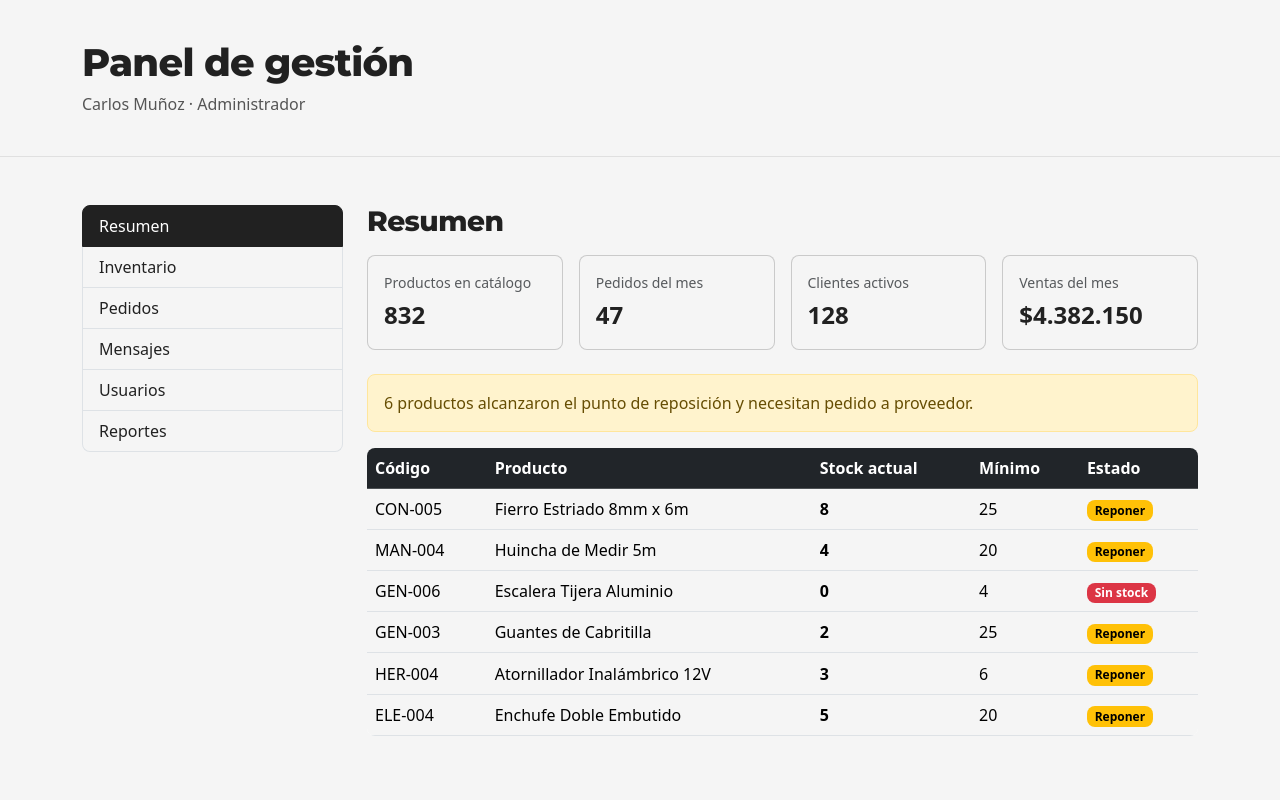
Test: Panel › al elegir una opcion del menu muestra solo esa seccion
Check: the heading "Resumen" is shown, box [367,204,503,238]
Click the button "Inventario".
click(138, 267)  # box [82,247,343,288]
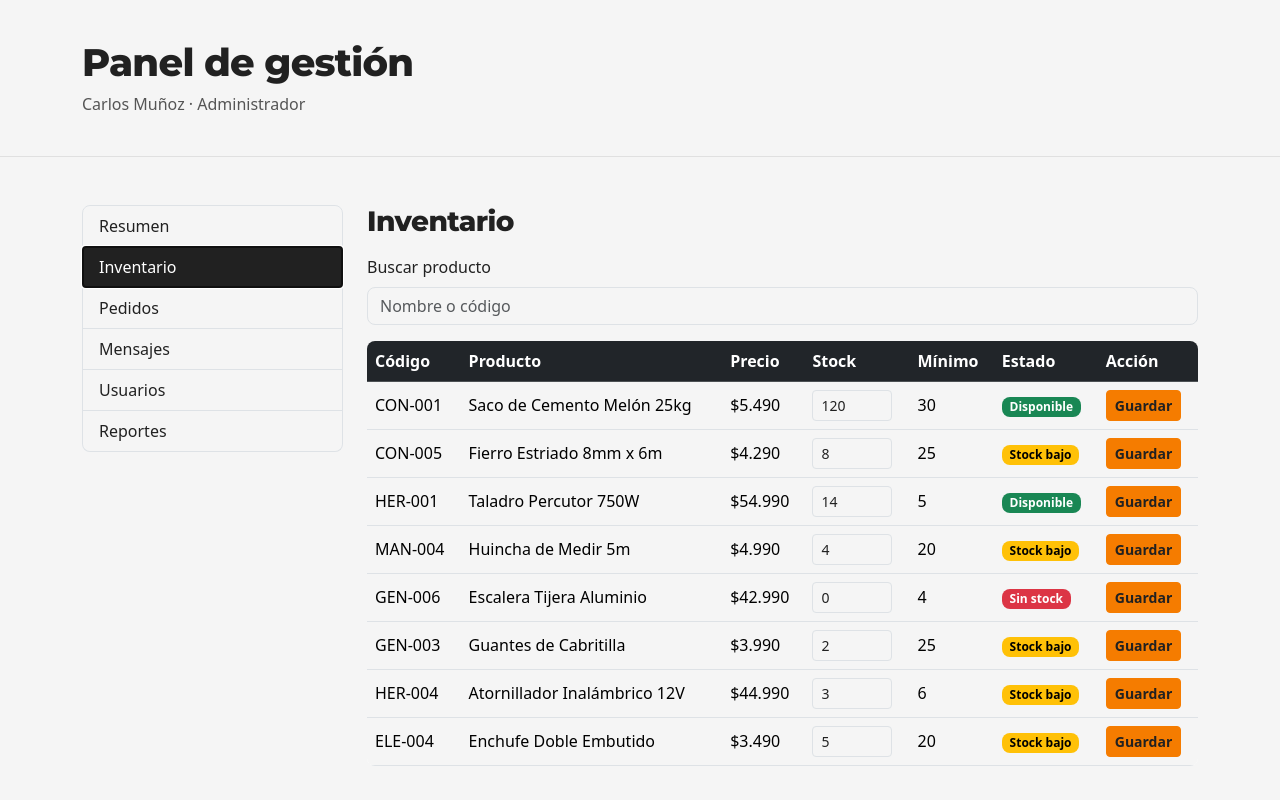
Check: the headings read "Inventario", in this order, box [367,204,514,238]
Click the button "Pedidos".
click(129, 308)  # box [82,288,343,329]
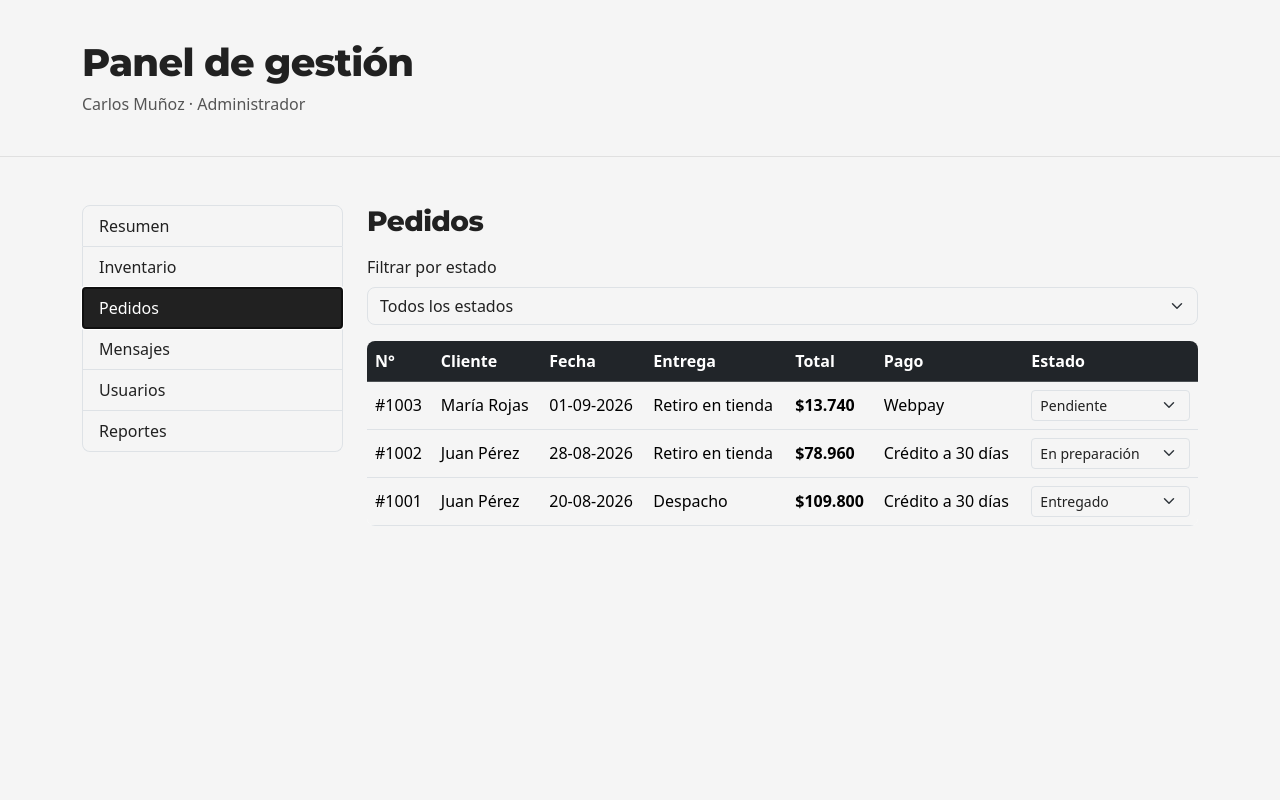
Check: the headings read "Pedidos", in this order, box [367,204,483,238]
Click the button "Mensajes".
click(134, 349)  # box [82,329,343,370]
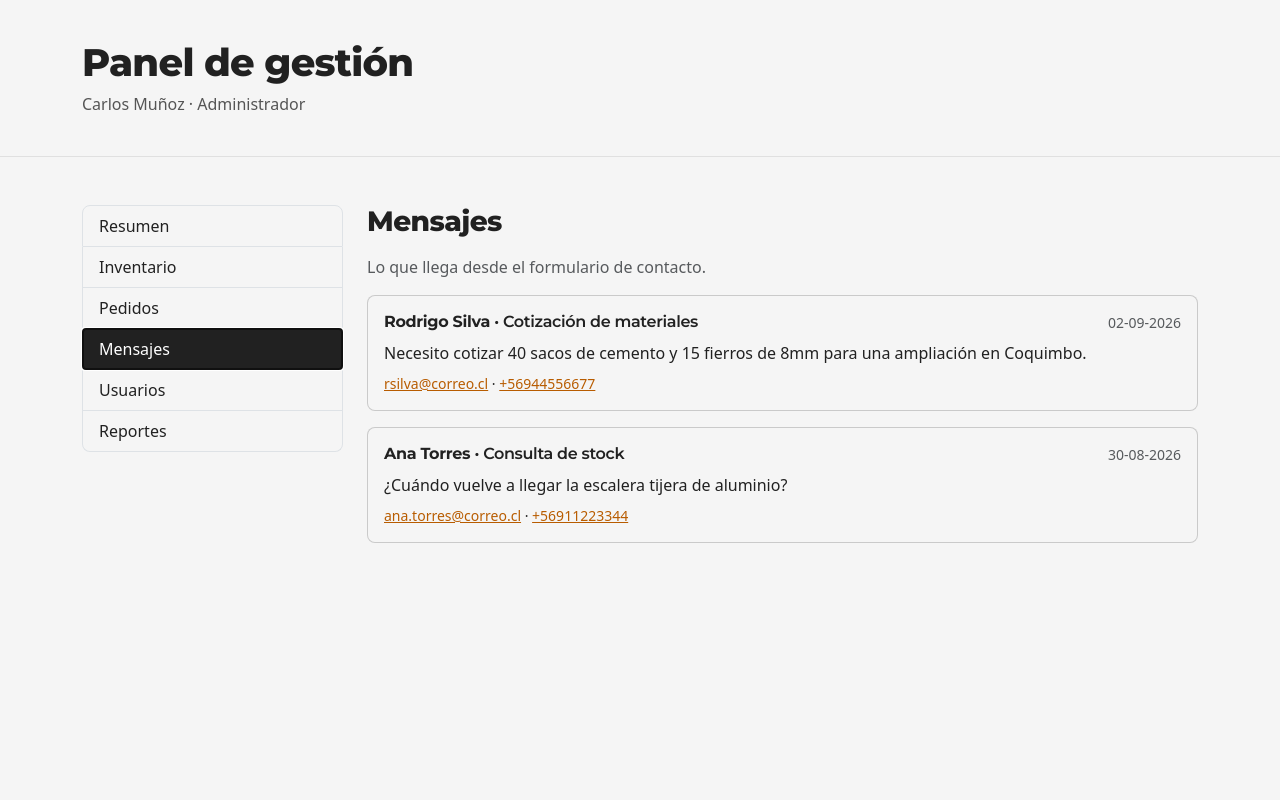
Check: the headings read "Mensajes", in this order, box [367,204,502,238]
Click the button "Usuarios".
click(132, 390)  # box [82,370,343,411]
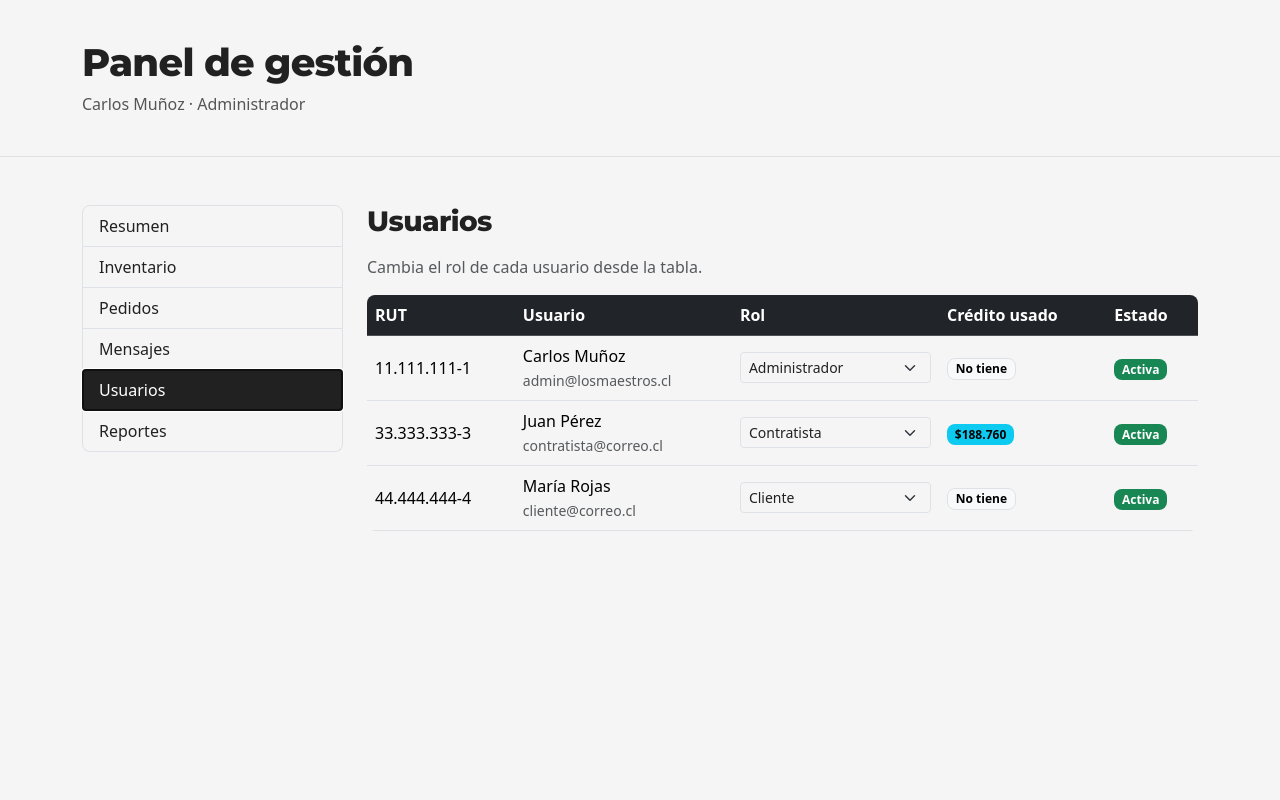
Check: the headings read "Usuarios", in this order, box [367,204,492,238]
Click the button "Reportes".
click(133, 431)  # box [82,411,343,452]
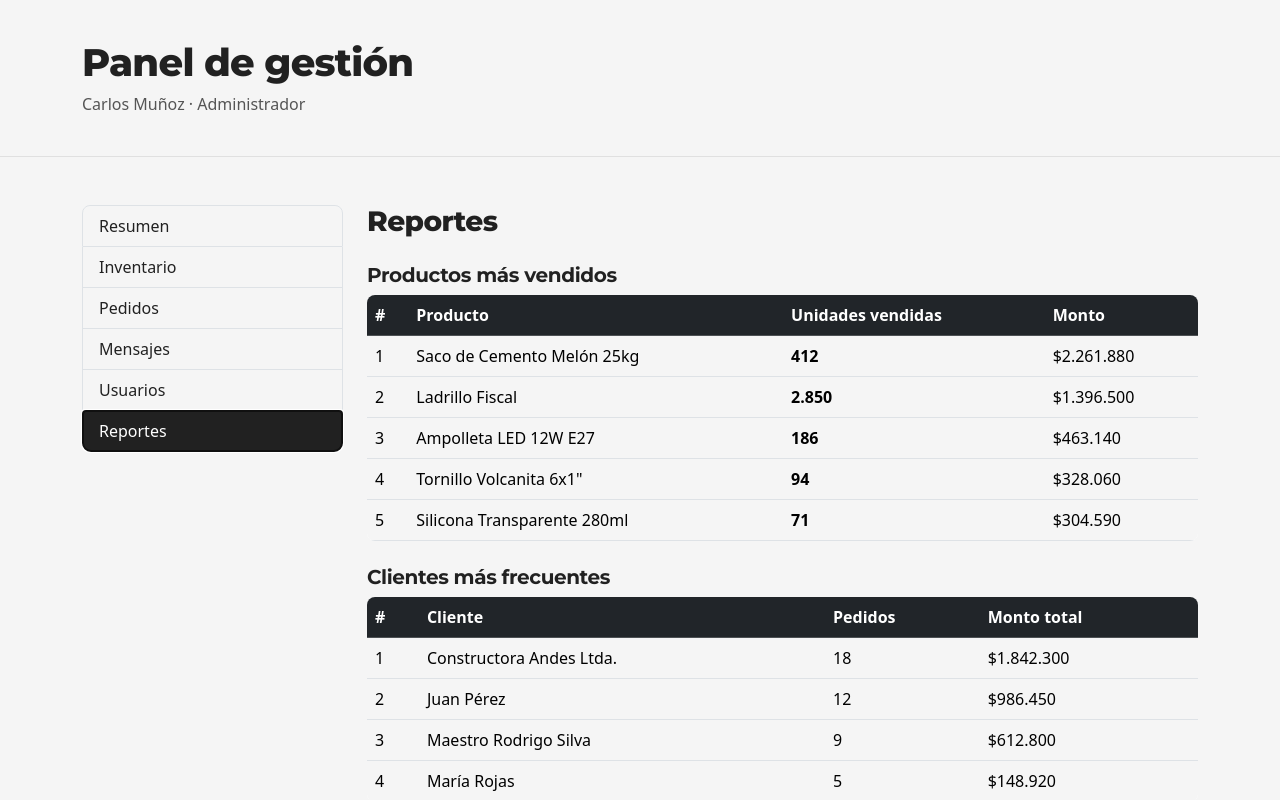
Check: the headings read "Reportes", in this order, box [367,204,498,238]
